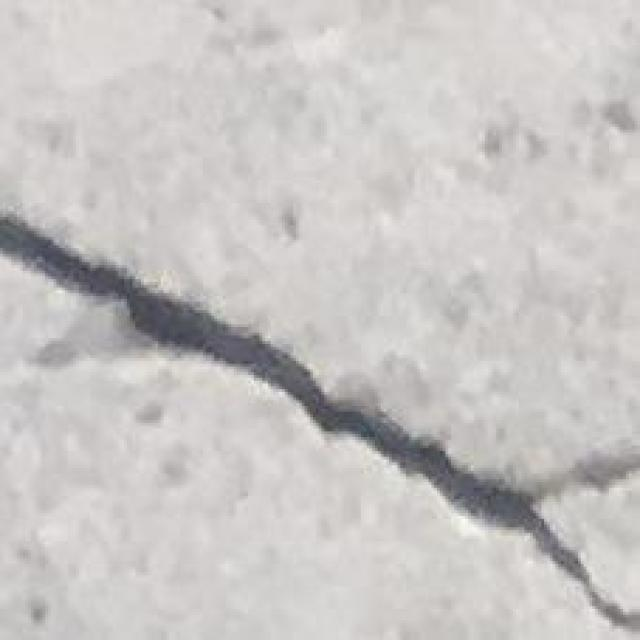Crack: (3, 183, 631, 640)
